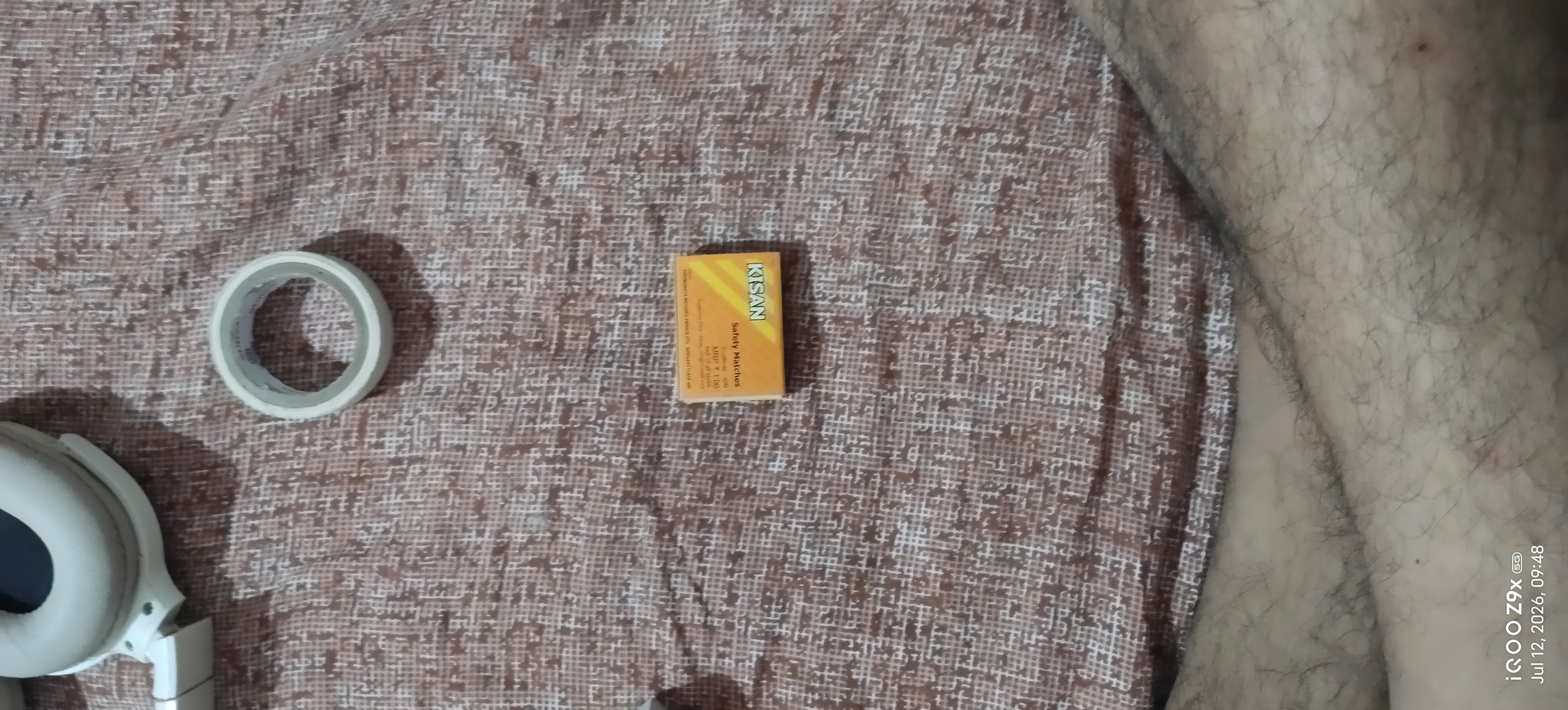matchbox: (661, 242, 812, 417)
tape_roll: (201, 230, 405, 436)
